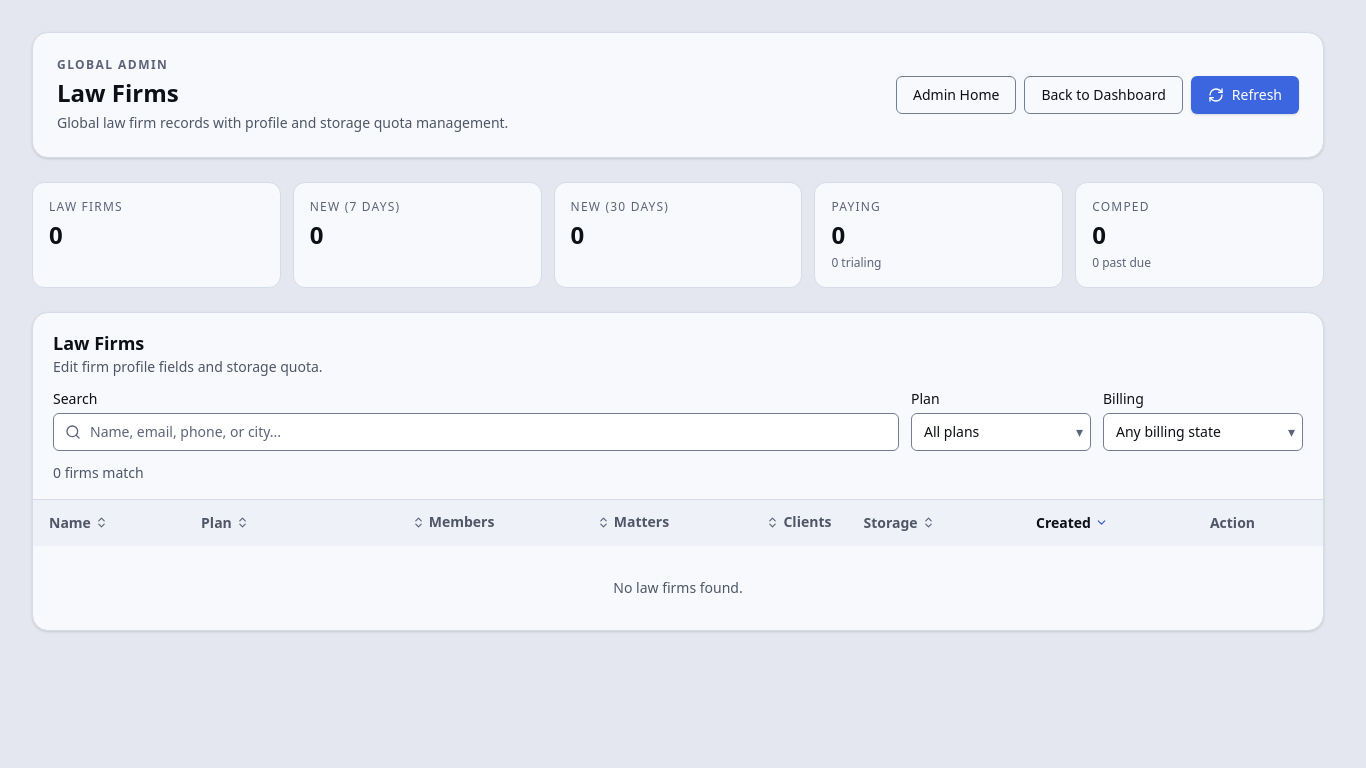
Scenario: AdminLawFirmsPage search race › keeps the newest search's rows, even when an earlier search's slower response arrives after it
This screenshot has width=1366, height=768.
Type "sm" into the field with placeholder "Name, email, phone, or city..." at (476, 432), box [53, 413, 899, 451]
Wait 350 ms
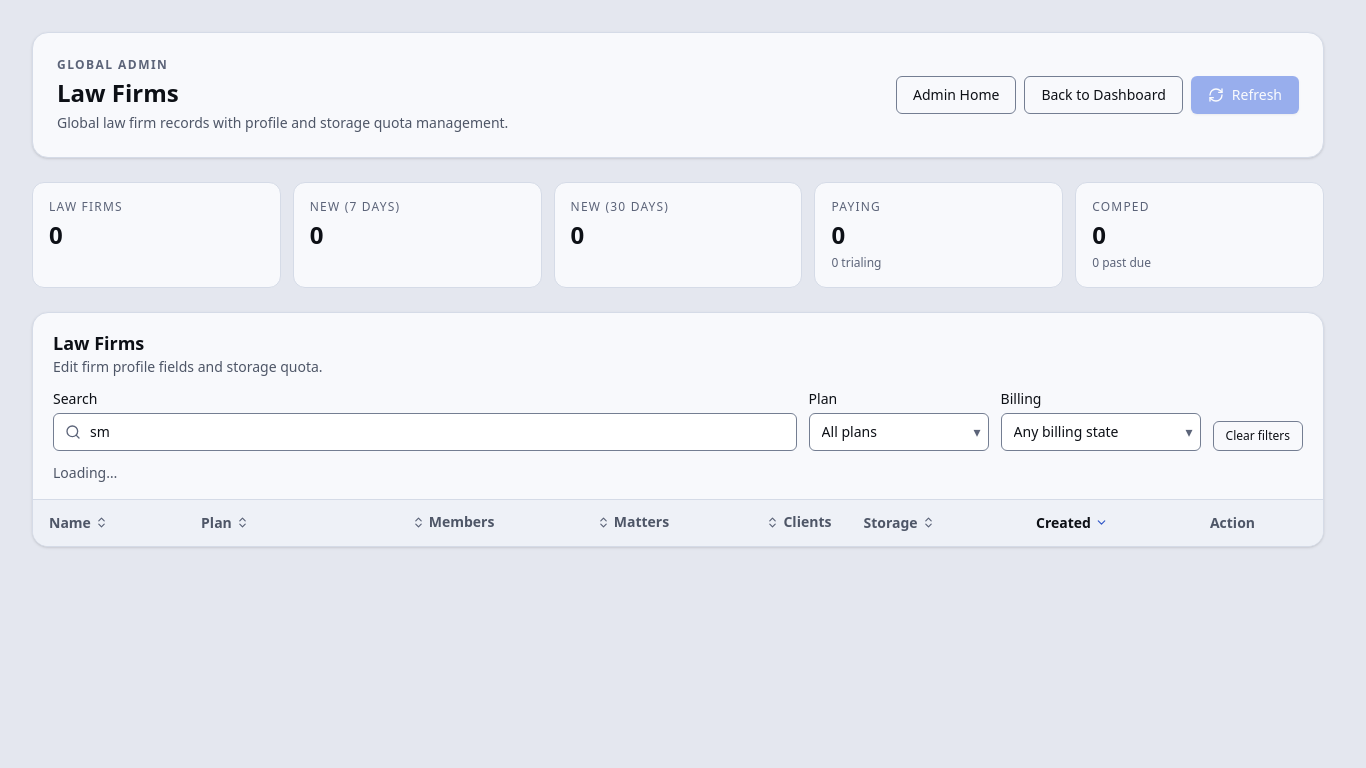
Replace the text in the field with placeholder "Name, email, phone, or city..." with "smith" at (425, 432), box [53, 413, 797, 451]
Wait 860 ms
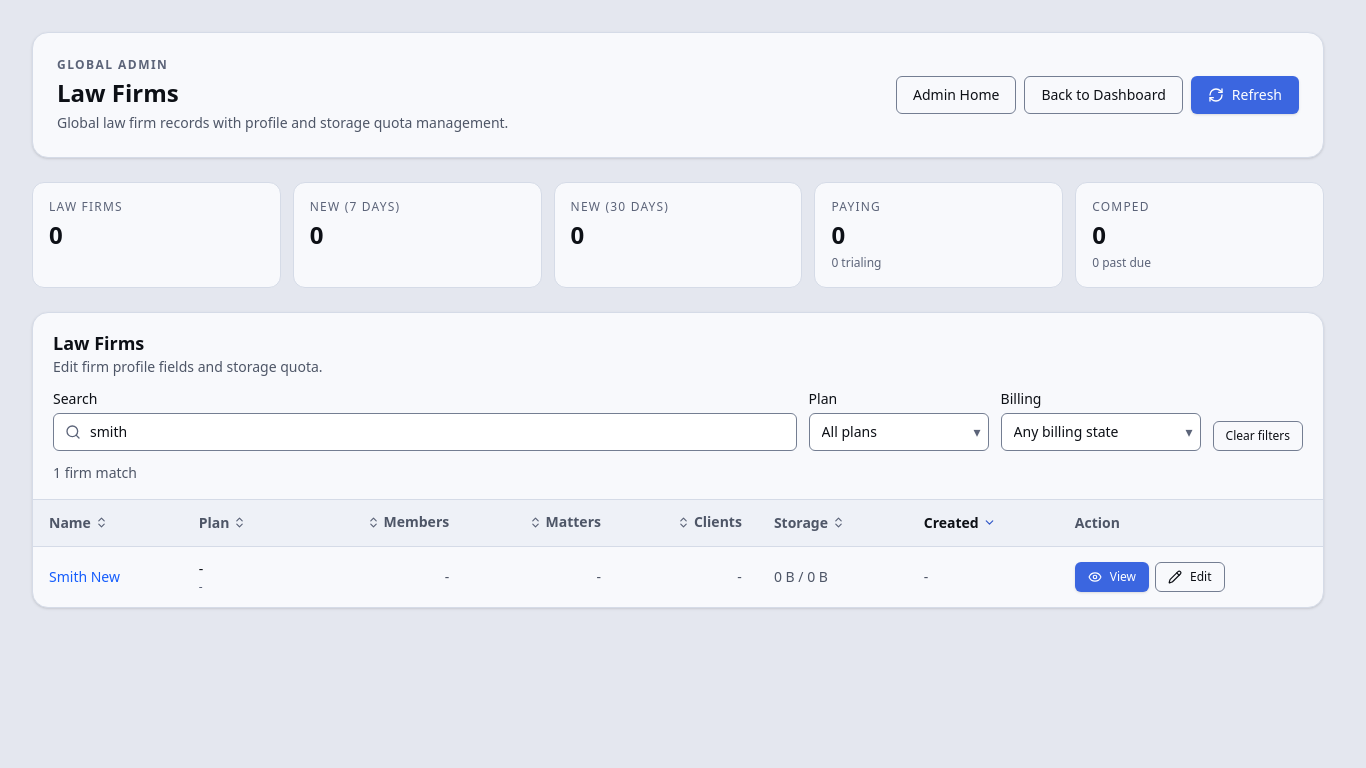
Expected: the text "Smith New" is shown, [49, 566, 120, 586]
